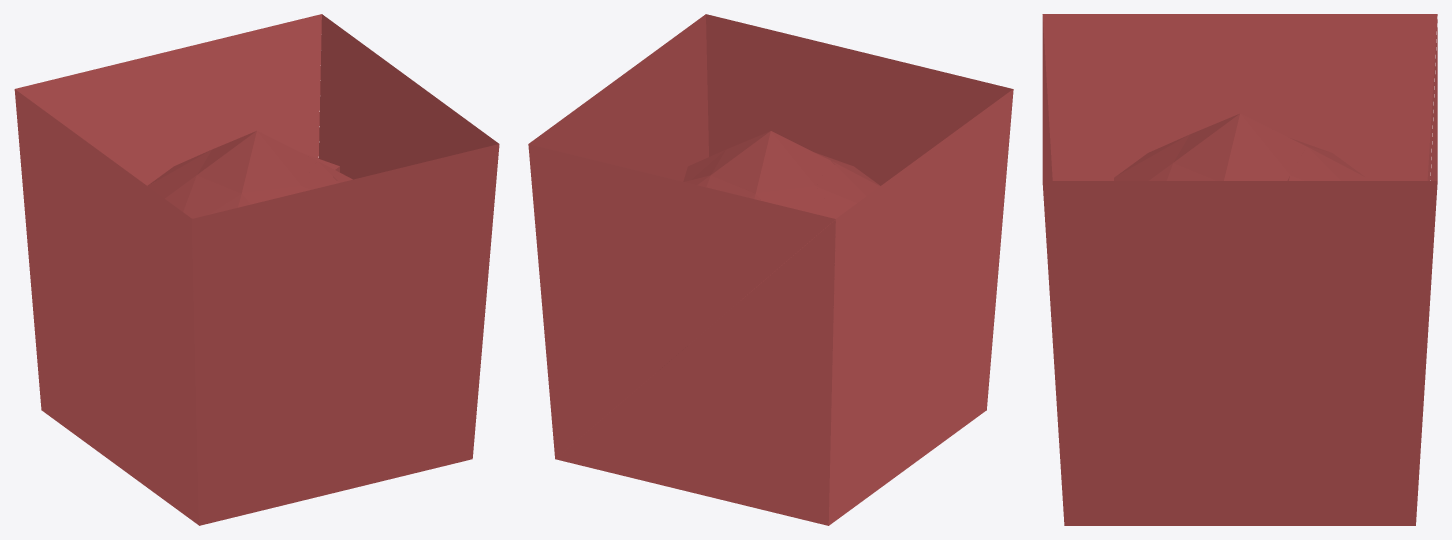
Rendered from fire_mt.glb.
The picture shows the model from 3 angles, left to right: view 1: azimuth 30°, elevation 25°; view 2: azimuth 150°, elevation 25°; view 3: azimuth 270°, elevation 25°; orthographic projection. The views are drawn at different scales.
Parts seen in each view (by area): view 1: fire_mt_col; view 2: fire_mt_col; view 3: fire_mt_col.
Boxes of the visible parts, x1,y1,x2,y2 form: fire_mt_col: [14, 14, 499, 525]; fire_mt_col: [528, 14, 1013, 525]; fire_mt_col: [1042, 14, 1437, 525].
Bounding box in the file's own units: 9 × 8.91 × 9.01.
